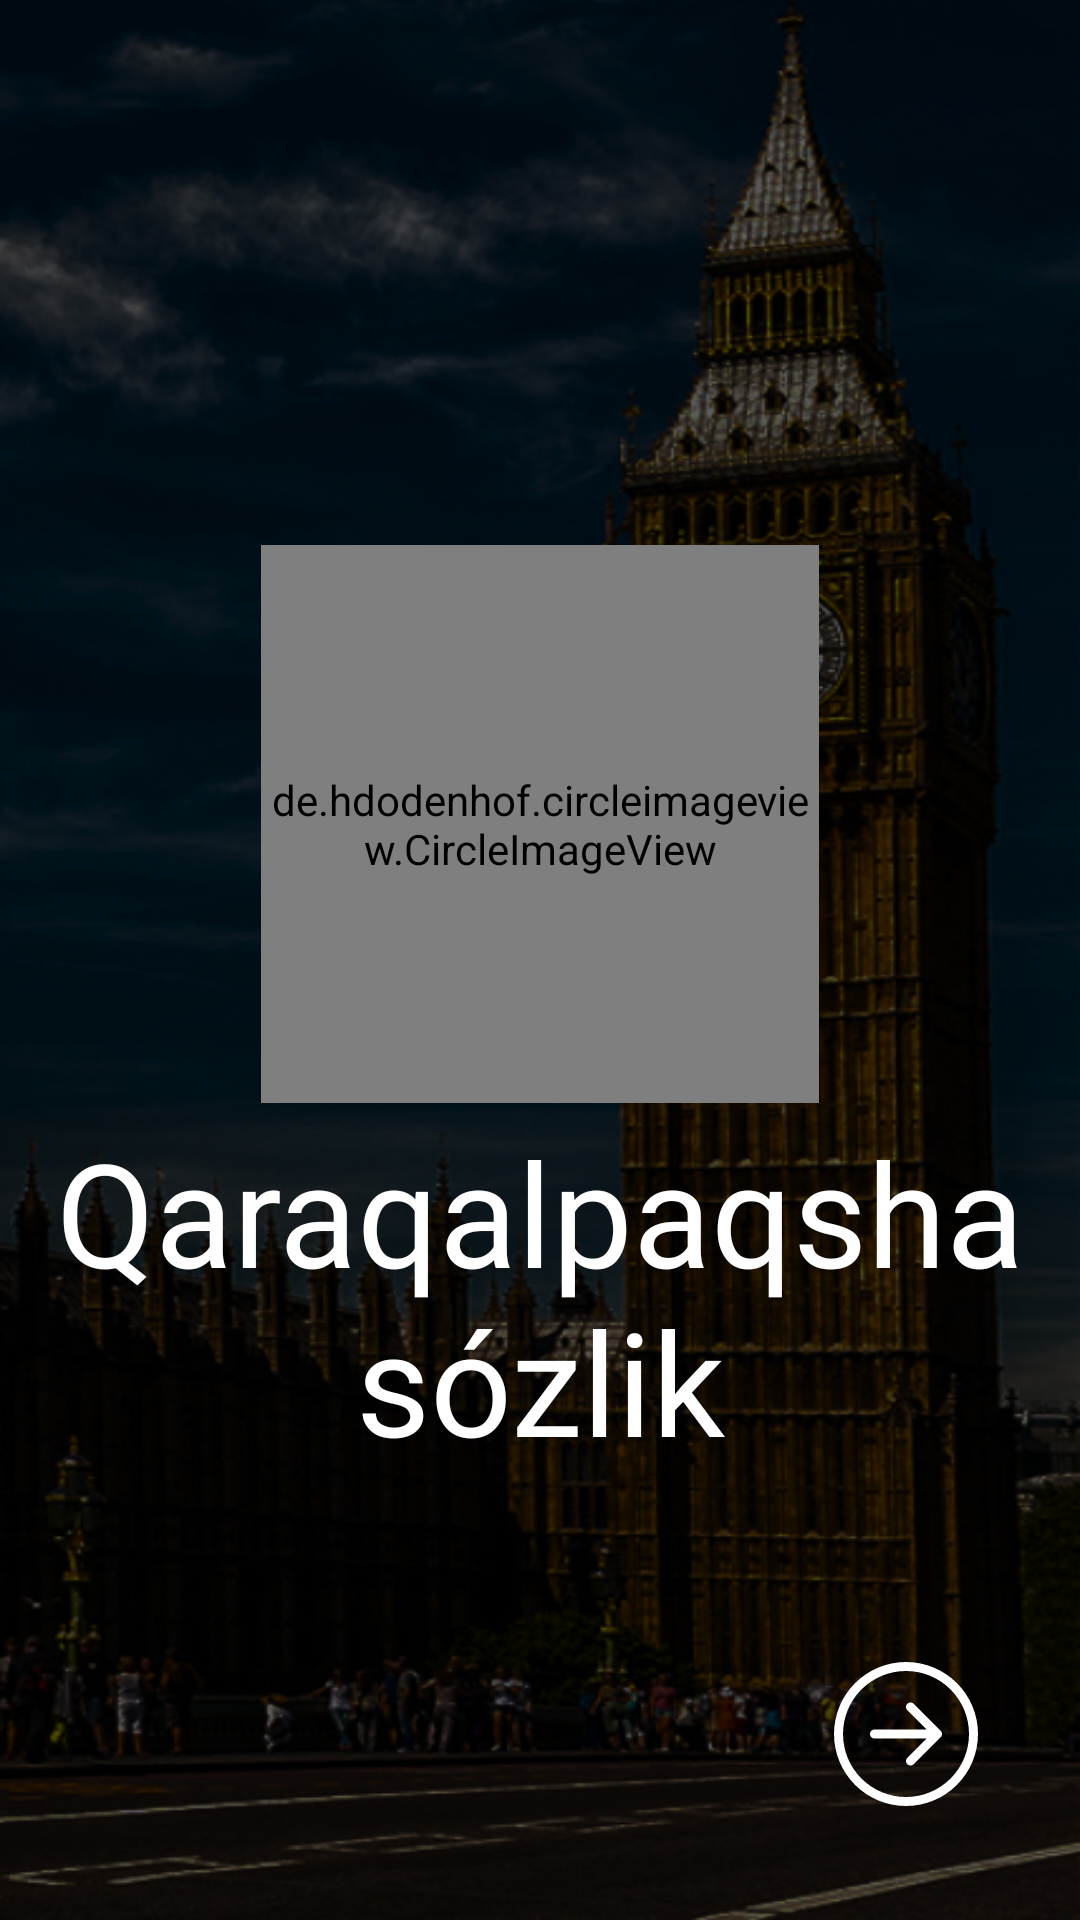

Screen size 1080×1920. Icon name, then its center in pixels as [x,y]:
next: [906,1734]
